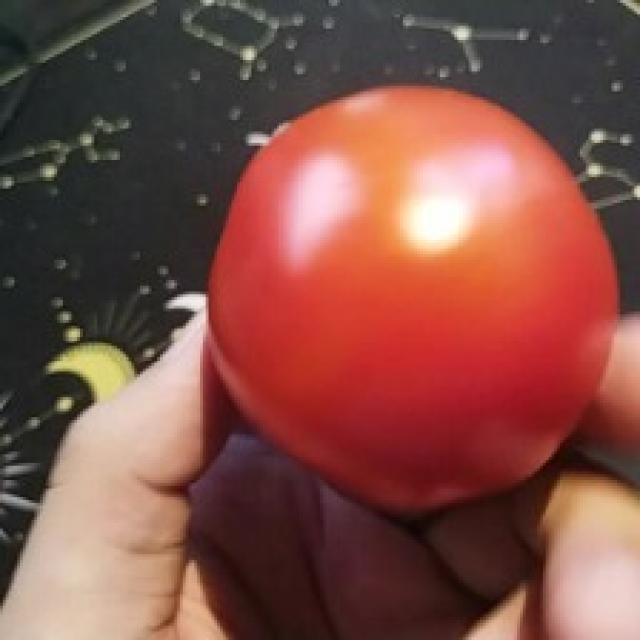Fresh Tomato: (176, 60, 624, 544)
